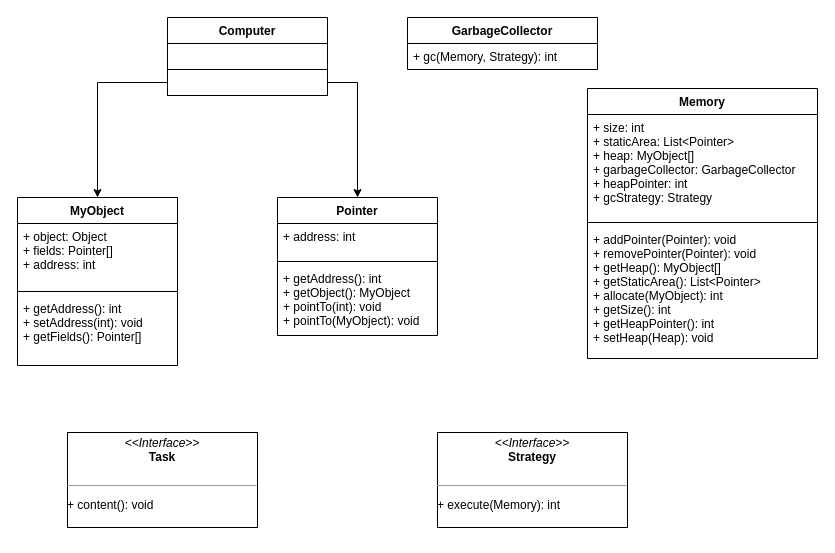
Image size: 835x553. Some labels were removed from this diagram. The shapes that lost their labels are listed below. From the top down, each one's centre as x and y in pixels, then its label:
At [247,56]: "+ memory: Memory".
At [247,82]: "+ run(Task): void".
